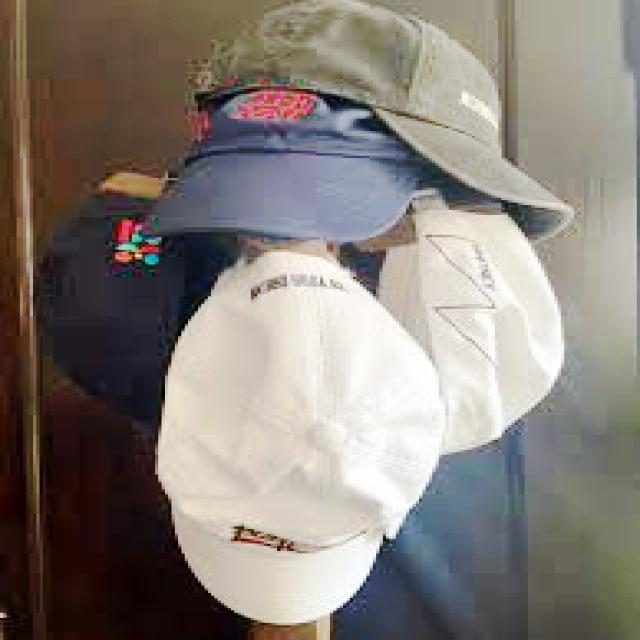TOPI: (142, 252, 449, 625), (182, 0, 578, 245), (353, 183, 571, 455), (27, 185, 215, 430), (136, 79, 422, 240)
